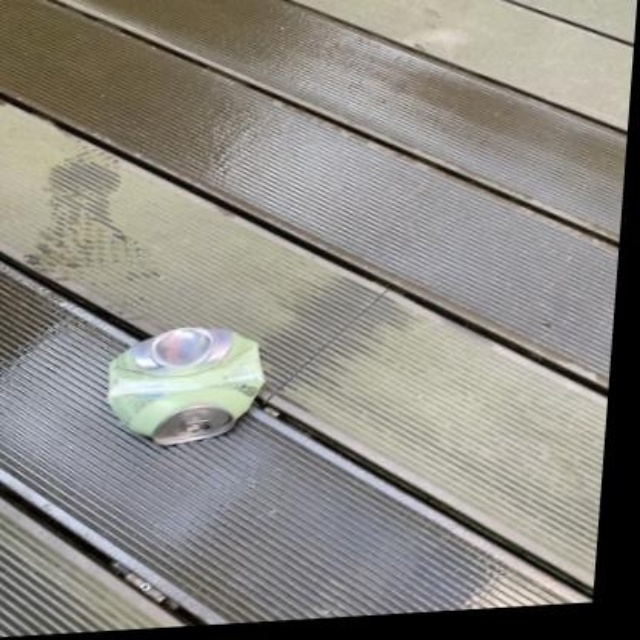trash: (108, 328, 263, 443)
